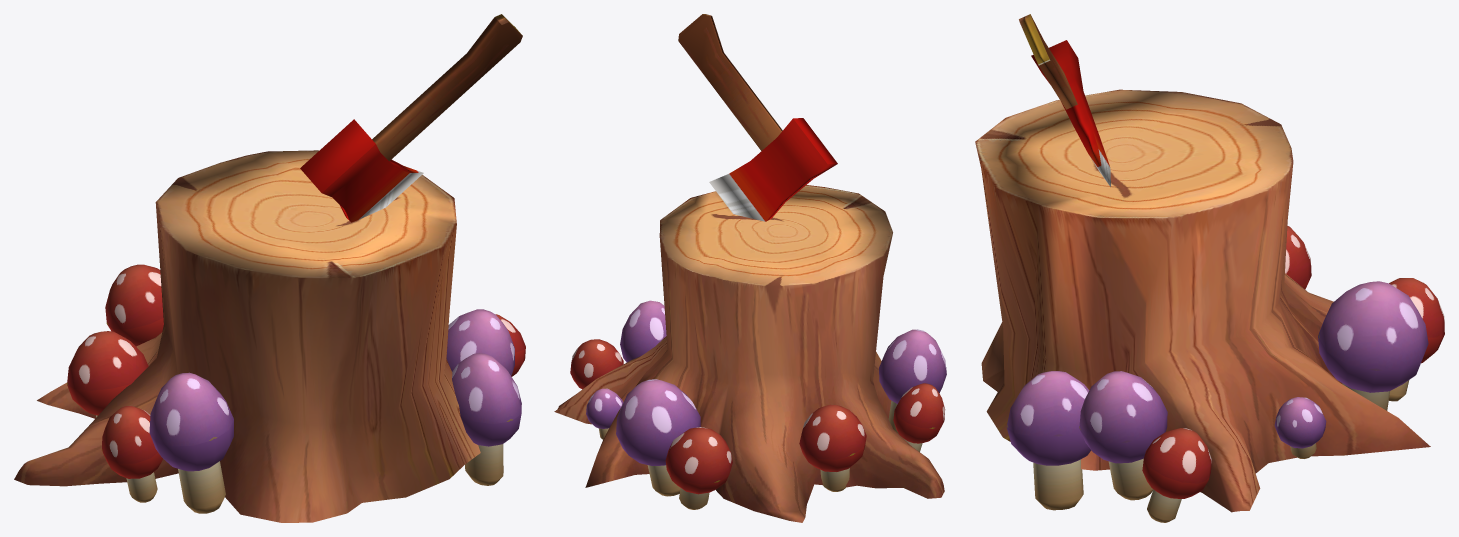
Rendered from TreeStumpOdysseyStatue.fbx.
The picture shows the model from 3 angles, left to right: view 1: azimuth 30°, elevation 25°; view 2: azimuth 150°, elevation 25°; view 3: azimuth 270°, elevation 25°; orthographic projection. The views are drawn at different scales.
Parts seen in each view (by area): view 1: TreeStump; view 2: TreeStump; view 3: TreeStump.
Boxes of the visible parts, box(x1,y1,x2,y2) form: TreeStump: box(14, 14, 525, 522); TreeStump: box(554, 14, 946, 522); TreeStump: box(975, 14, 1444, 522).
Size of the model in its own units: 21.22 by 19.94 by 17.26.
